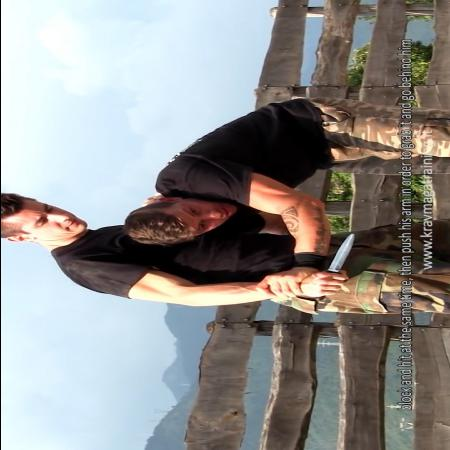long weapon: (306, 231, 362, 303)
